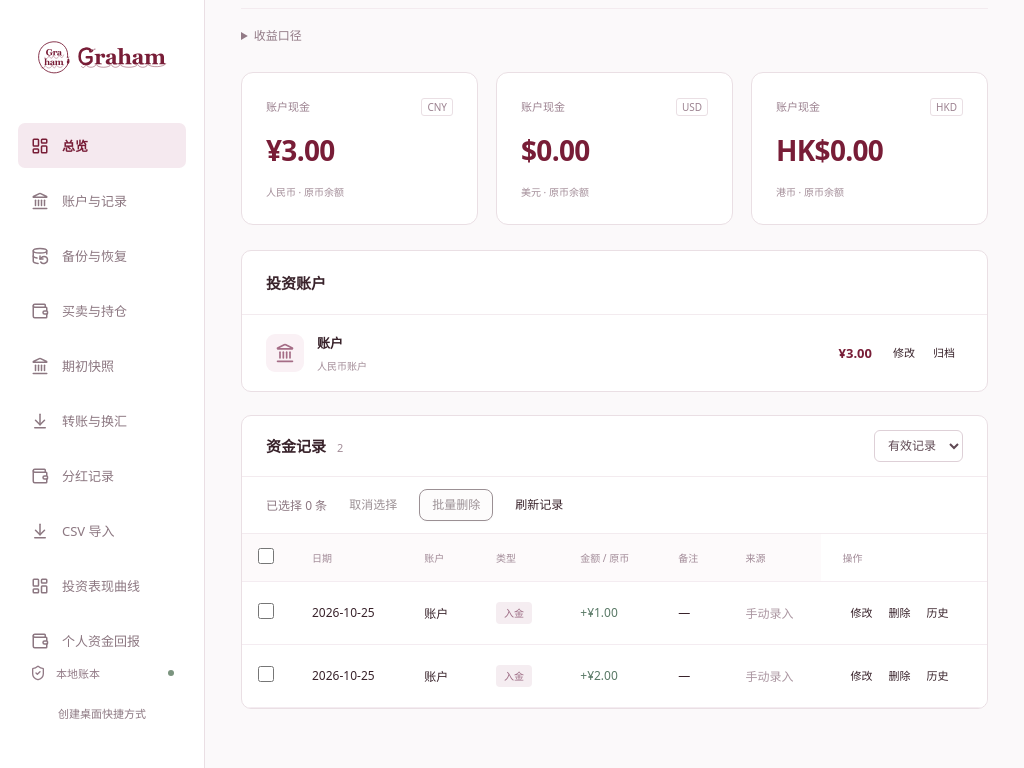
Test case: 切换记录后忽略旧的历史查询结果
The image size is (1024, 768).
(page scrolled)
Click the button with aria-label "记录历史" at (938, 613), box [918,598,956,628]
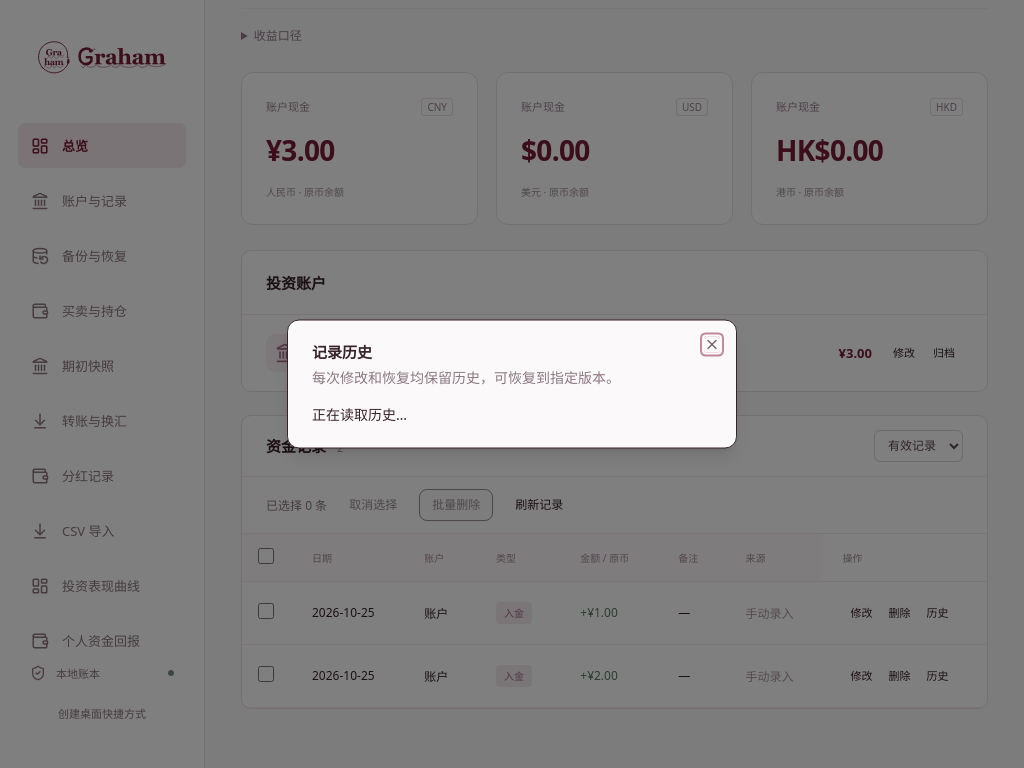
Press Escape
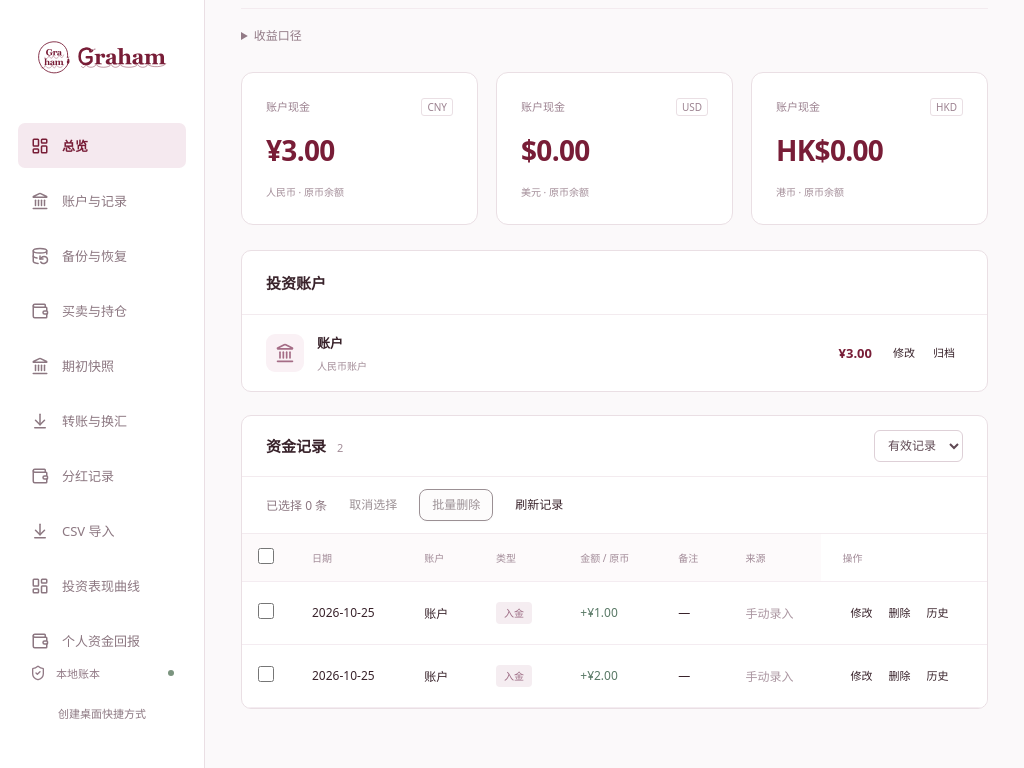
Click the button with aria-label "记录历史" at (938, 676), box [918,661,956,691]
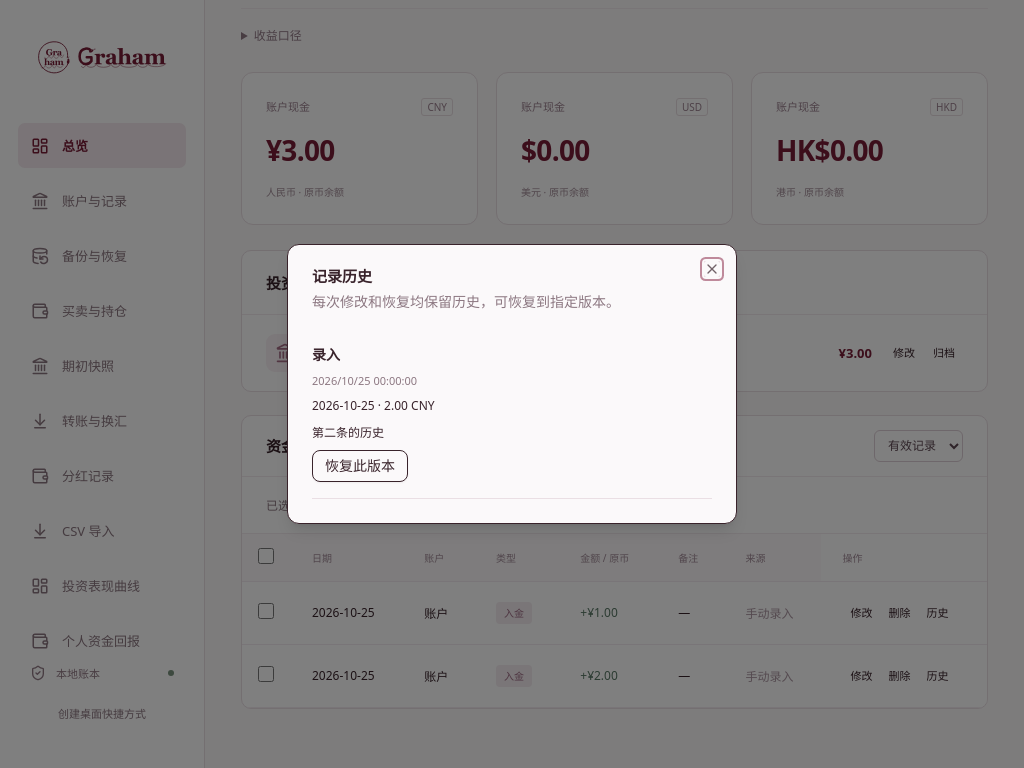
Check: the text "第二条的历史" is shown, box [312,424,384,441]
